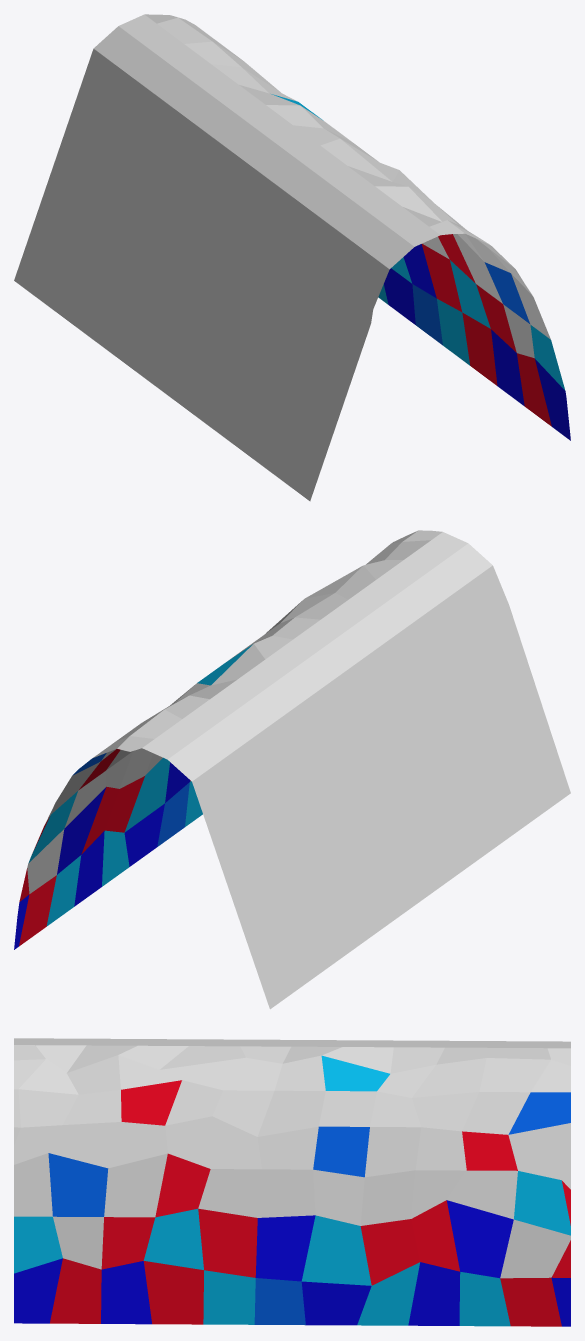
File: ParteAlargada.fbx
3 views of the same model, one above another, from view 1: azimuth 30°, elevation 25°; view 2: azimuth 150°, elevation 25°; view 3: azimuth 270°, elevation 25° (orthographic). The views are drawn at different scales.
Parts seen in each view (by area): view 1: ParteAlargada; view 2: ParteAlargada; view 3: ParteAlargada.
Boxes of the visible parts, left/top/right/bottom form: ParteAlargada: left=14, top=14, right=570, bottom=501; ParteAlargada: left=14, top=530, right=570, bottom=1009; ParteAlargada: left=14, top=1038, right=570, bottom=1326.
Size of the model in its own units: 94.86 by 81.83 by 186.
